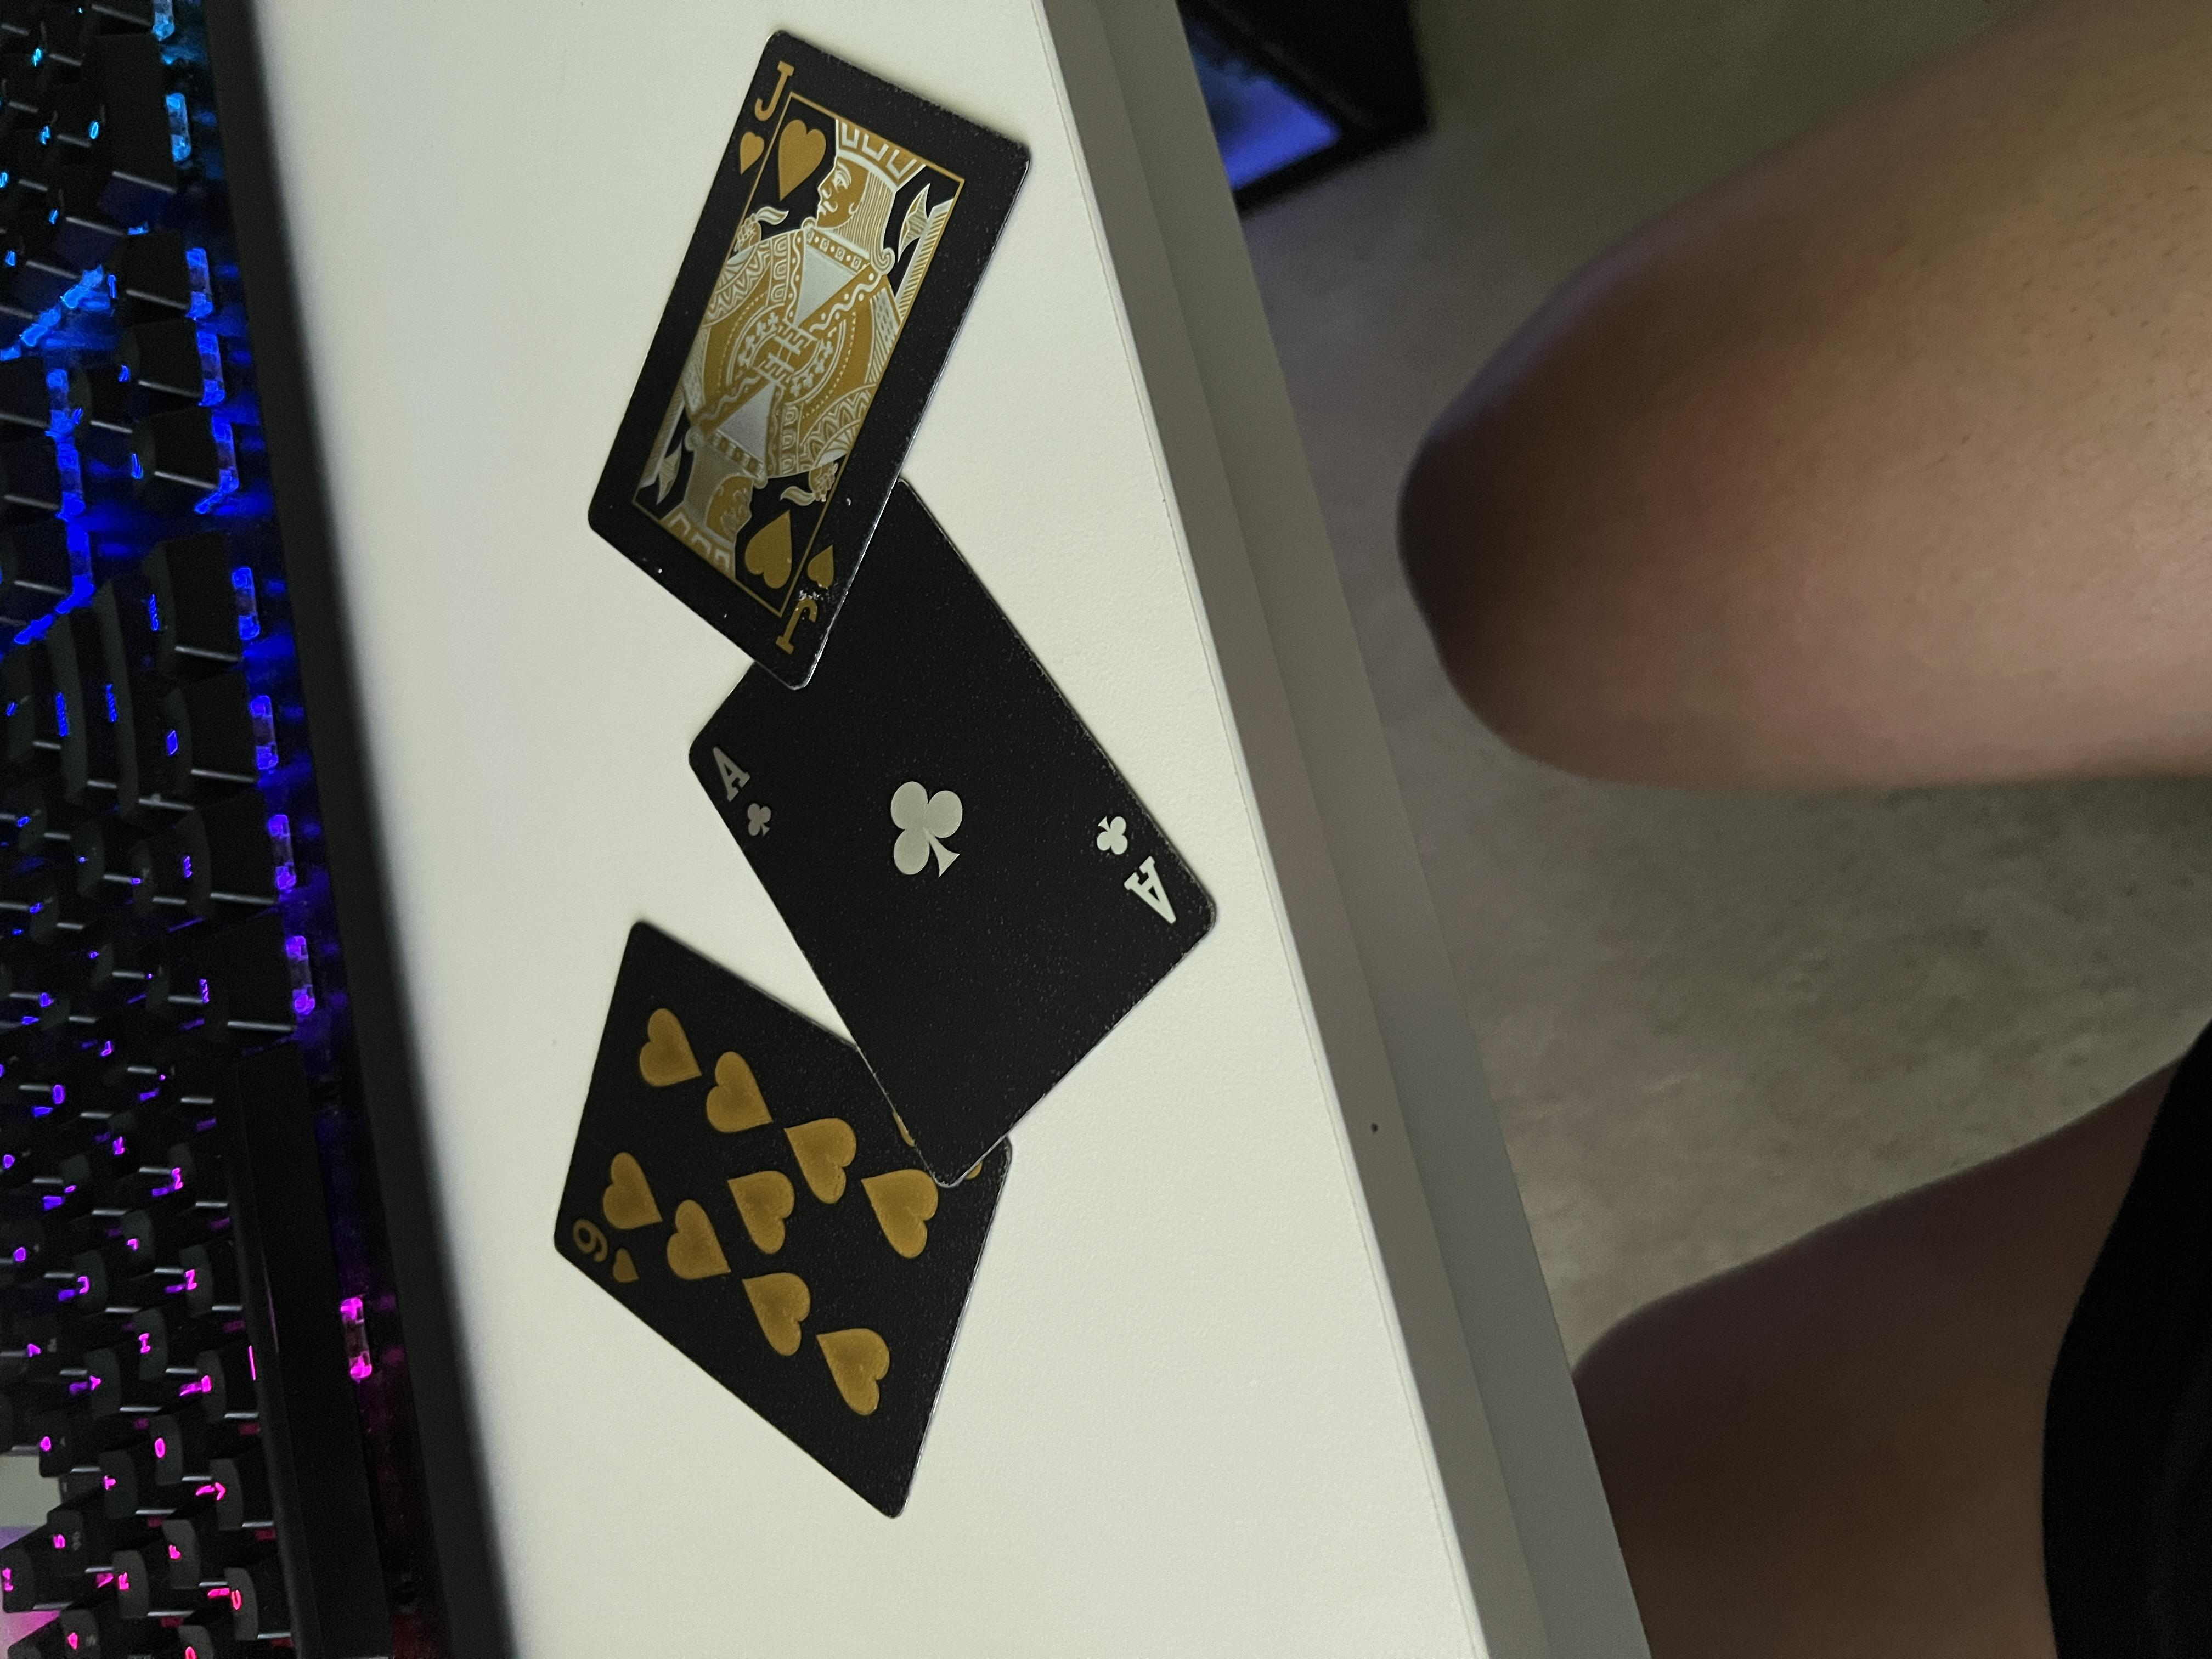9H: (495, 423, 594, 483)
AC: (974, 821, 1136, 890), (1078, 530, 1219, 582)
JH: (1980, 540, 2155, 599), (1331, 579, 1494, 631)
